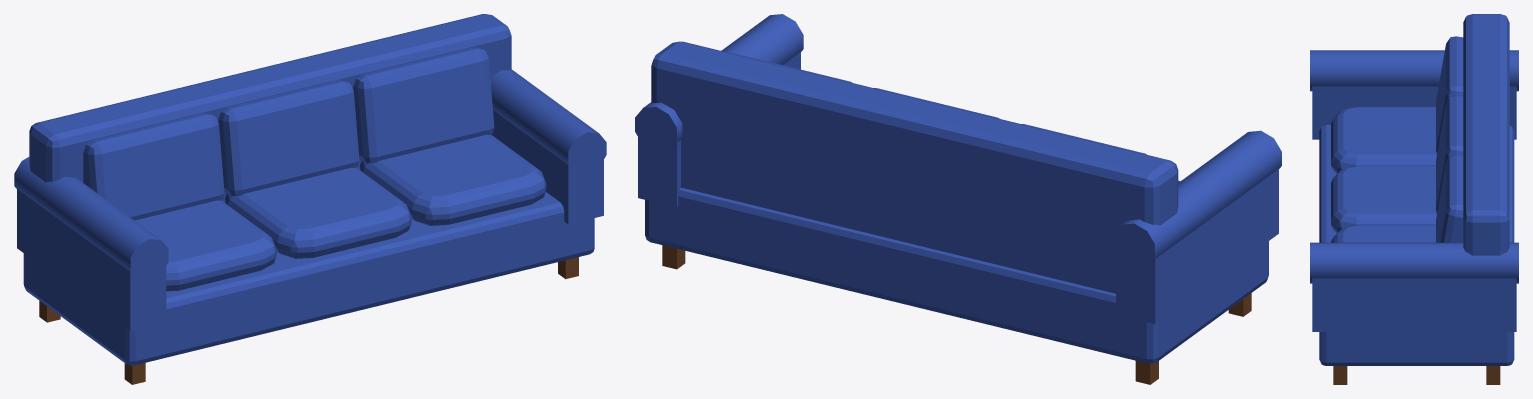
File: sofa.glb
3 renders of one model, left to right at view 1: azimuth 30°, elevation 25°; view 2: azimuth 150°, elevation 25°; view 3: azimuth 270°, elevation 25°, orthographic. The views are drawn at different scales.
Visible parts, largest first — view 1: Sofa base, Sofa arms, Sofa back, Sofa back cushion C, Sofa back cushion B, Sofa back cushion A, Sofa cushion B, Sofa cushion C, Sofa cushion A, Sofa legs; view 2: Sofa back, Sofa base, Sofa arms, Sofa legs; view 3: Sofa arms, Sofa back, Sofa base, Sofa cushion B, Sofa cushion A, Sofa back cushion C, Sofa cushion C, Sofa back cushion A, Sofa back cushion B, Sofa legs.
Part boxes in pixels (x1=…): Sofa base: x1=23, y1=192, x2=594, y2=365; Sofa arms: x1=14, y1=69, x2=606, y2=331; Sofa back: x1=29, y1=14, x2=511, y2=202; Sofa back cushion C: x1=353, y1=47, x2=494, y2=163; Sofa back cushion B: x1=218, y1=80, x2=359, y2=196; Sofa back cushion A: x1=83, y1=113, x2=224, y2=220; Sofa cushion B: x1=225, y1=167, x2=411, y2=258; Sofa cushion C: x1=360, y1=134, x2=546, y2=225; Sofa cushion A: x1=135, y1=200, x2=276, y2=291; Sofa legs: x1=39, y1=257, x2=578, y2=384; Sofa back: x1=651, y1=41, x2=1178, y2=293; Sofa base: x1=645, y1=187, x2=1268, y2=363; Sofa arms: x1=635, y1=14, x2=1281, y2=323; Sofa legs: x1=662, y1=245, x2=1251, y2=384; Sofa arms: x1=1310, y1=50, x2=1518, y2=331; Sofa back: x1=1463, y1=14, x2=1509, y2=255; Sofa base: x1=1319, y1=125, x2=1514, y2=365; Sofa cushion B: x1=1331, y1=166, x2=1436, y2=232; Sofa cushion A: x1=1331, y1=107, x2=1436, y2=173; Sofa back cushion C: x1=1436, y1=155, x2=1463, y2=242; Sofa cushion C: x1=1331, y1=225, x2=1435, y2=242; Sofa back cushion A: x1=1436, y1=36, x2=1463, y2=154; Sofa back cushion B: x1=1436, y1=95, x2=1463, y2=213; Sofa legs: x1=1333, y1=366, x2=1500, y2=384.
Bounding box in the file's own units: 2.13 × 0.83 × 0.9.
